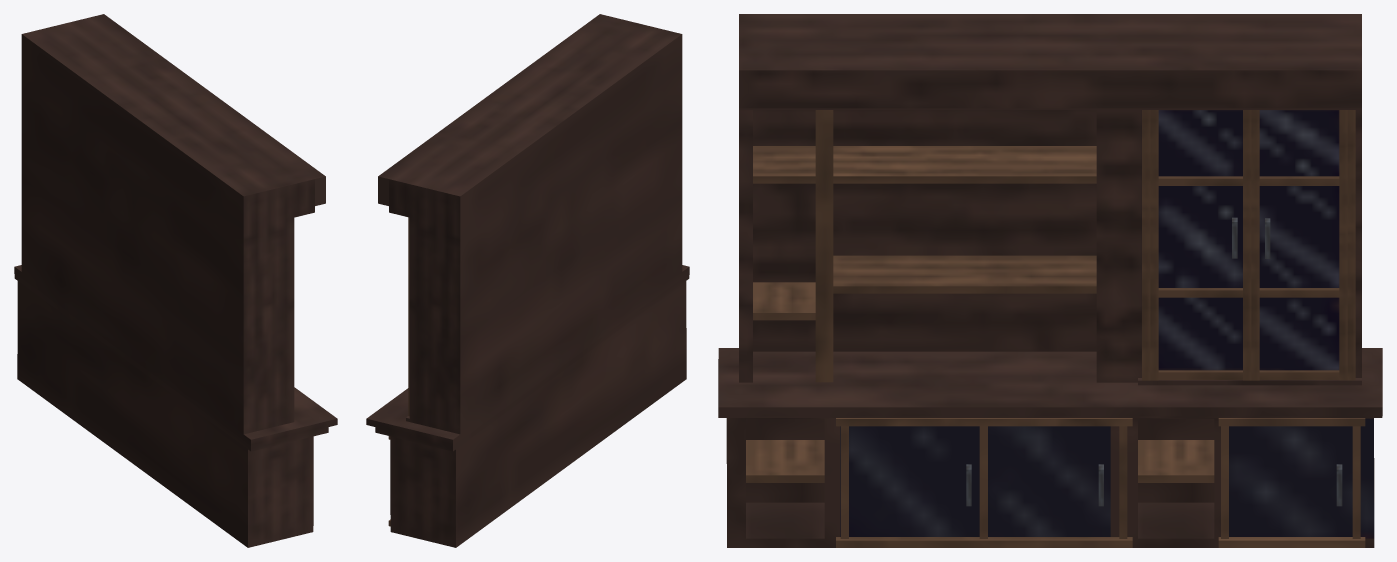
File: E_Bar.fbx
3 renders of one model, left to right at view 1: azimuth 30°, elevation 25°; view 2: azimuth 150°, elevation 25°; view 3: azimuth 270°, elevation 25°, orthographic. The views are drawn at different scales.
Parts seen in each view (by area): view 1: Cube; view 2: Cube, Cube.018; view 3: Cube, Cube.018.
Boxes of the visible parts, bbox=[...] form: Cube: bbox=[14, 14, 337, 547]; Cube: bbox=[366, 14, 689, 547]; Cube.018: bbox=[388, 217, 409, 526]; Cube: bbox=[718, 14, 1382, 547]; Cube.018: bbox=[746, 110, 1365, 547].
Size of the model in its own units: 154 by 593 by 730.
